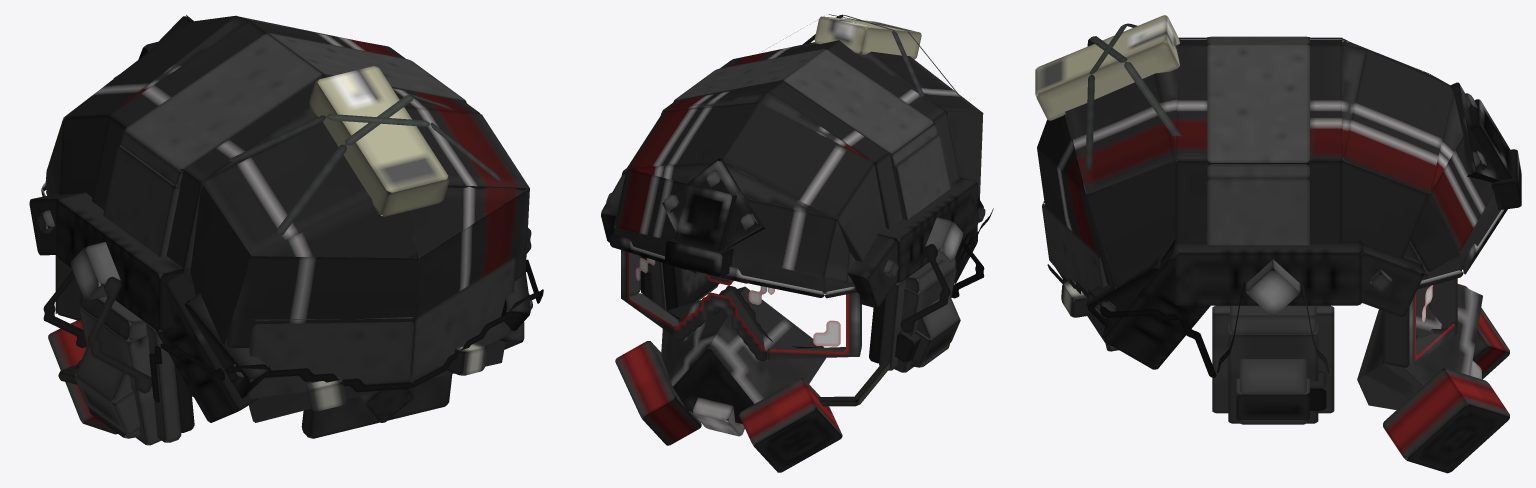
File: taro_h.obj
3 views of the same model, side by side, from view 1: azimuth 30°, elevation 25°; view 2: azimuth 150°, elevation 25°; view 3: azimuth 270°, elevation 25° (orthographic). The views are drawn at different scales.
Parts seen in each view (by area): view 1: plane; view 2: plane; view 3: plane.
Boxes of the visible parts, <box> form: plane: <box>29,15,543,445</box>; plane: <box>601,14,993,472</box>; plane: <box>1035,15,1521,473</box>.
Bounding box in the file's own units: 1.01 × 0.89 × 0.9474.
